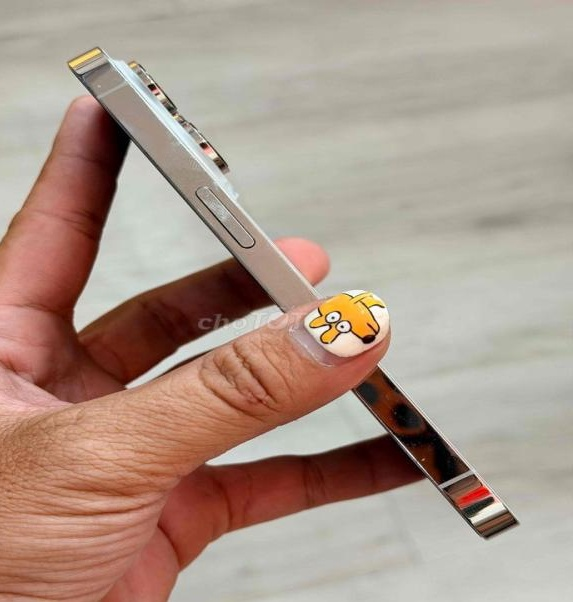scratch: (197, 177, 235, 236), (85, 70, 109, 99), (416, 451, 435, 471)
